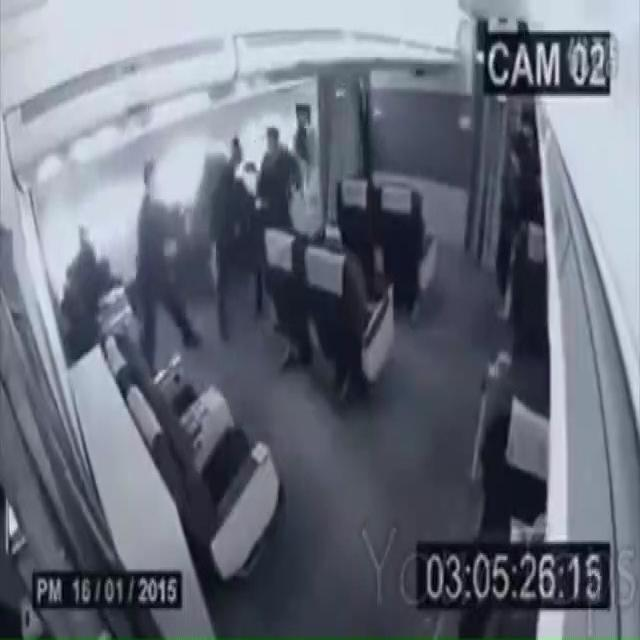fight: (206, 117, 300, 346)
